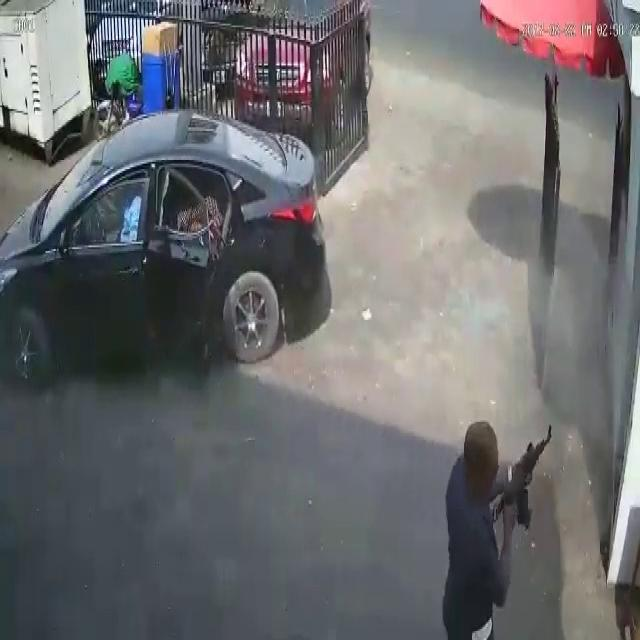weapon: (488, 414, 562, 542)
